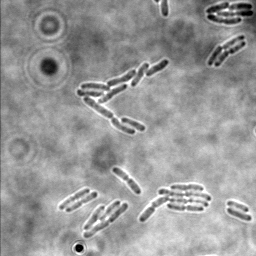Dividing: (206, 34, 245, 66), (213, 40, 247, 68), (112, 167, 142, 196), (57, 187, 90, 211), (64, 191, 98, 213)
Microcolony: (75, 59, 170, 137), (138, 182, 211, 223), (80, 200, 128, 239), (205, 2, 254, 26)
Rod: (226, 208, 252, 223), (226, 199, 249, 213)
